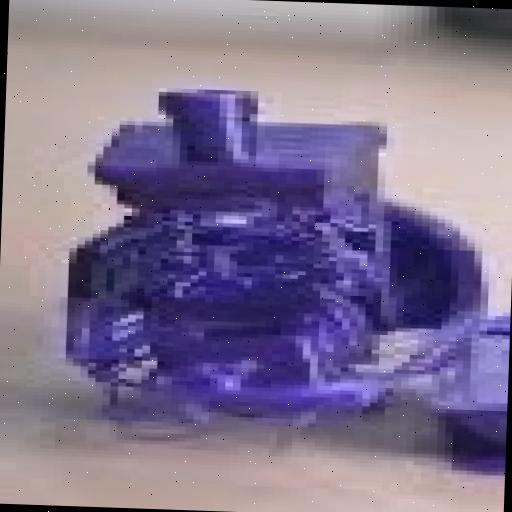spaghetti: (78, 200, 358, 436)
